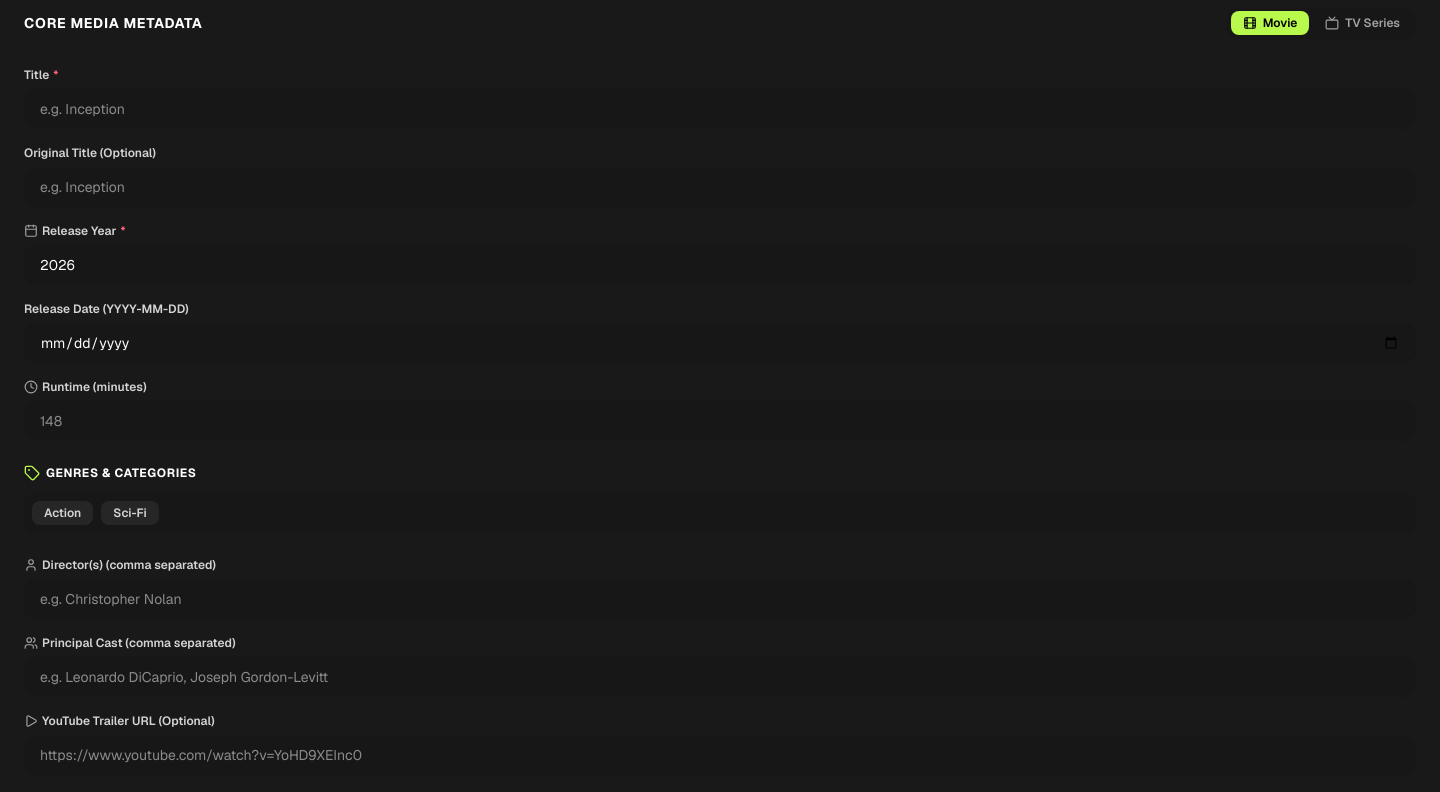
Test case: AddMediaForm › shows duplicate warning after debounce and blocks submission
Type "Inception" into the 1st field with placeholder "e.g. Inception" at (720,109), box [24, 89, 1416, 129]
Wait 500 ms
(page scrolled)
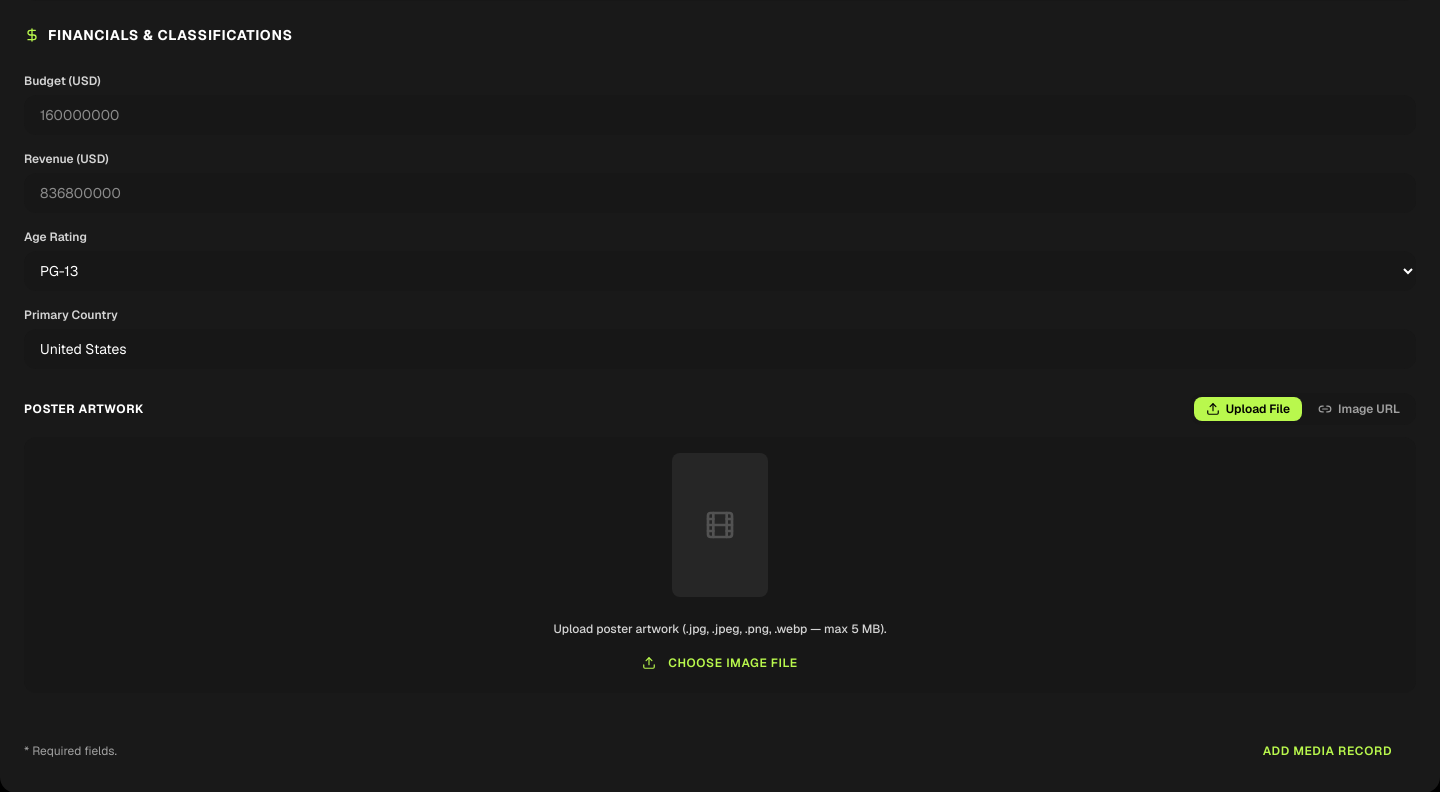
expect the button "Add Media Record" is disabled: met, box [1239, 733, 1416, 769]
